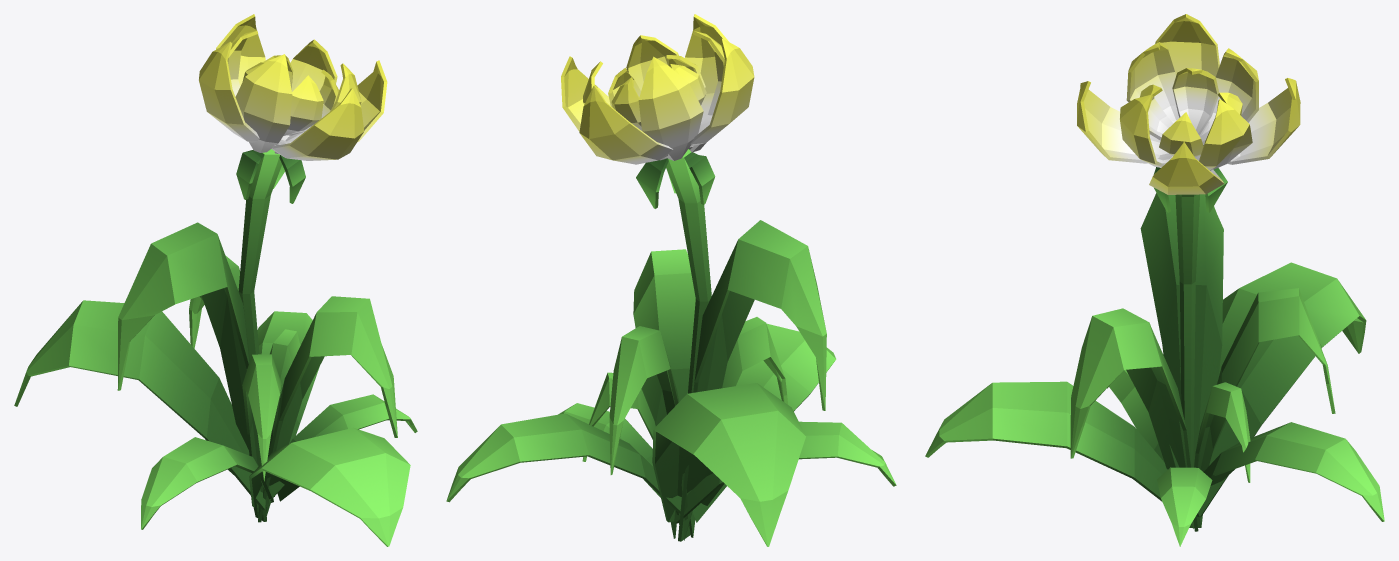
The model's file is 1FlorAlta.fbx.
3 views of the same model, side by side, from view 1: azimuth 30°, elevation 25°; view 2: azimuth 150°, elevation 25°; view 3: azimuth 270°, elevation 25° (orthographic). The views are drawn at different scales.
Visible parts, largest first — view 1: 1Floralta; view 2: 1Floralta; view 3: 1Floralta.
Boxes of the visible parts, left/top/right/bottom form: 1Floralta: left=14, top=14, right=417, bottom=546; 1Floralta: left=446, top=14, right=896, bottom=546; 1Floralta: left=925, top=14, right=1384, bottom=546.
Bounding box in the file's own units: 108 × 159 × 133.
